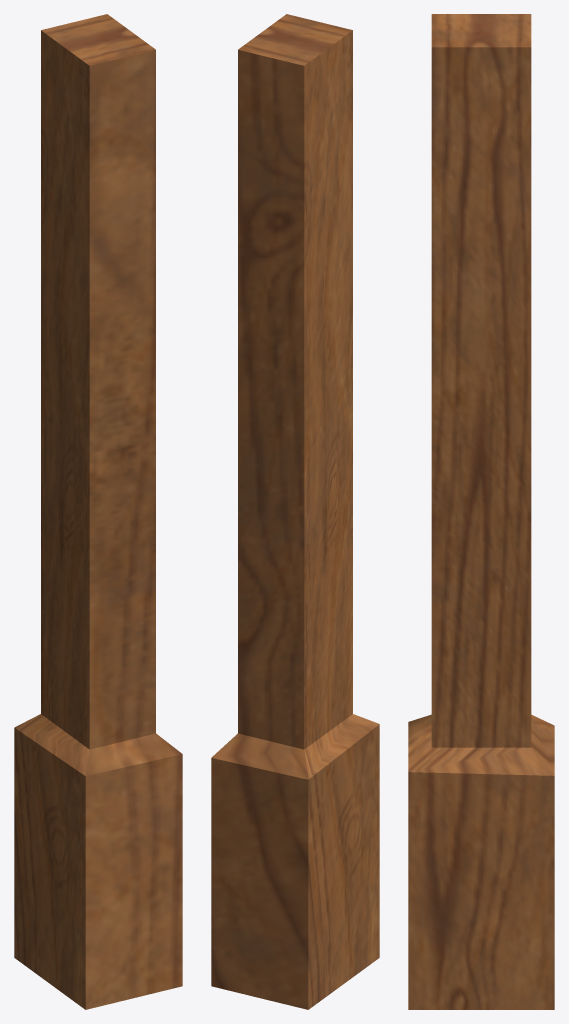
File: WoodColumn_Art.fbx
The picture shows the model from 3 angles, left to right: view 1: azimuth 30°, elevation 25°; view 2: azimuth 150°, elevation 25°; view 3: azimuth 270°, elevation 25°; orthographic projection. The views are drawn at different scales.
Visible parts, largest first — view 1: WoodColumn_Art; view 2: WoodColumn_Art; view 3: WoodColumn_Art.
Boxes of the visible parts, x1,y1,x2,y2 form: WoodColumn_Art: (14,14,182,1009); WoodColumn_Art: (211,14,379,1009); WoodColumn_Art: (408,14,554,1009).
Size of the model in its own units: 0.8223 by 7.54 by 1.05.
